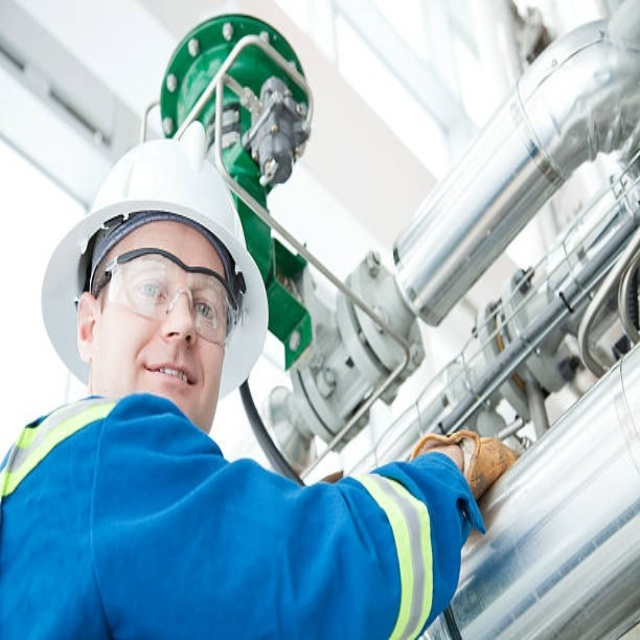Gafas: (89, 256, 239, 349)
Guantes: (409, 428, 518, 508)
Sin_mascara: (137, 350, 207, 409)
